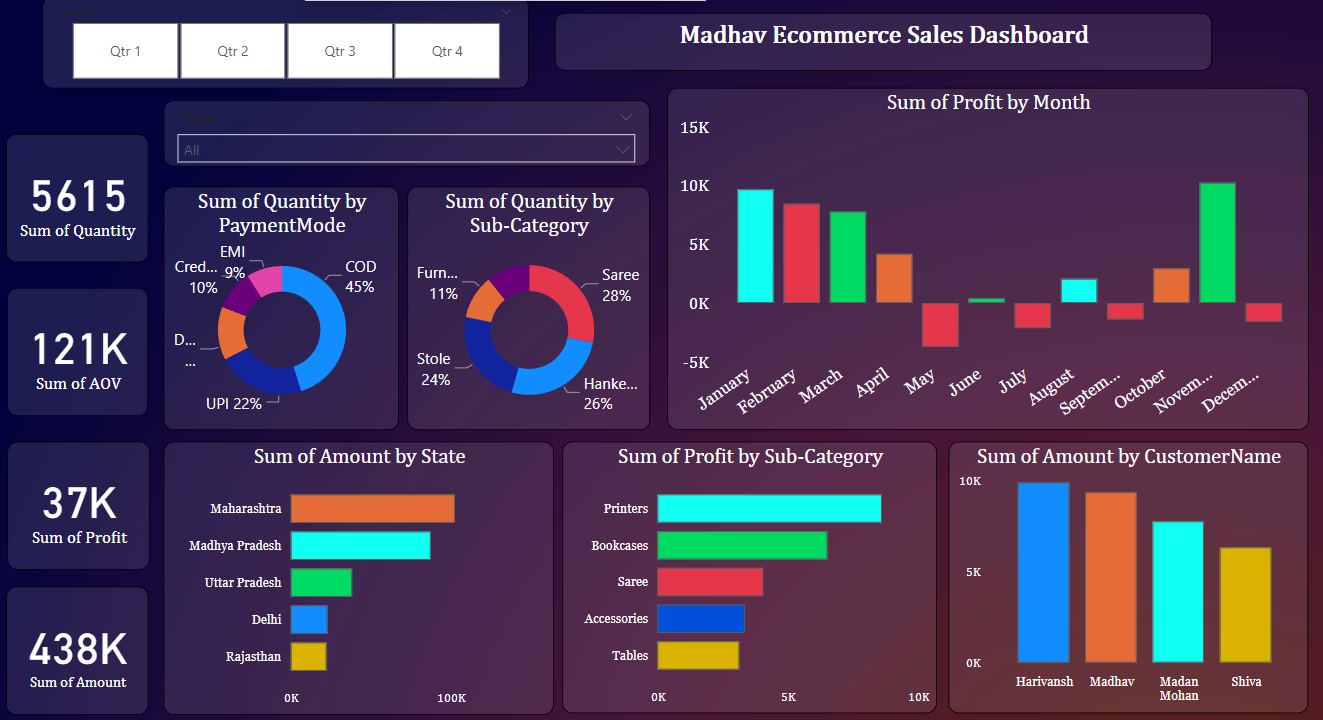

Layout of this report page (visuals, bound fields, positions):
{"tool":"powerbi","page":{"name":"Page 1","canvas":[1280,720],"ordinal":0},"visuals":[{"type":"textbox","box":[538.8,32.7,634,55.8],"z":0},{"type":"columnChart","fields":{"Y":["Details.Profit"],"Category":["Orders.Order Date.Variation.Date Hierarchy.Month"]},"box":[647.6,104.8,619,330.6],"z":1000},{"type":"barChart","fields":{"Category":["Details.Sub-Category"],"Y":["Details.Profit"]},"box":[546.9,446.3,361.9,262.6],"z":2000},{"type":"barChart","fields":{"Category":["Orders.State"],"Y":["Details.Amount"]},"box":[161.9,446.3,376.9,263.9],"z":3000},{"type":"donutChart","fields":{"Category":["Details.Sub-Category"],"Y":["Details.Quantity"]},"box":[397.3,200,234,235.4],"z":4000},{"type":"donutChart","fields":{"Y":["Details.Quantity"],"Category":["Details.PaymentMode"]},"box":[161.9,200,227.2,235.4],"z":5000},{"type":"card","fields":{"Values":["Details.Quantity"]},"box":[9.5,149.7,137.4,123.8],"z":6000},{"type":"card","fields":{"Values":["Details.Amount"]},"box":[9.5,586.4,137.4,123.8],"z":7000},{"type":"card","fields":{"Values":["Details.Average_order_value"]},"box":[10.9,298,136.1,123.8],"z":8000},{"type":"card","fields":{"Values":["Details.Profit"]},"box":[10.9,446.3,137.4,123.8],"z":9000},{"type":"slicer","fields":{"Values":["Orders.Order Date.Variation.Date Hierarchy.Quarter"]},"box":[44.9,16.3,469.4,88.4],"z":9001},{"type":"slicer","fields":{"Values":["Orders.State"]},"box":[161.9,117,469.4,63.9],"z":9002},{"type":"columnChart","fields":{"Category":["Orders.CustomerName"],"Y":["Details.Amount"]},"box":[919.7,446.3,346.9,262.6],"z":9003}]}

Visuals, with their boxes on the page's 1280x720 design canvas (x1, y1, x2, y2). These are canvas units, not pixel positions in the 1323x720 screenshot, which may show the page scaled, cropped or inside an application window:
textbox: x1=539, y1=33, x2=1173, y2=88
columnChart - Details.Profit x Orders.Order Date.Variation.Date Hierarchy.Month: x1=648, y1=105, x2=1267, y2=435
barChart - Details.Sub-Category x Details.Profit: x1=547, y1=446, x2=909, y2=709
barChart - Orders.State x Details.Amount: x1=162, y1=446, x2=539, y2=710
donutChart - Details.Sub-Category x Details.Quantity: x1=397, y1=200, x2=631, y2=435
donutChart - Details.Quantity x Details.PaymentMode: x1=162, y1=200, x2=389, y2=435
card - Details.Quantity: x1=10, y1=150, x2=147, y2=274
card - Details.Amount: x1=10, y1=586, x2=147, y2=710
card - Details.Average_order_value: x1=11, y1=298, x2=147, y2=422
card - Details.Profit: x1=11, y1=446, x2=148, y2=570
slicer - Orders.Order Date.Variation.Date Hierarchy.Quarter: x1=45, y1=16, x2=514, y2=105
slicer - Orders.State: x1=162, y1=117, x2=631, y2=181
columnChart - Orders.CustomerName x Details.Amount: x1=920, y1=446, x2=1267, y2=709
